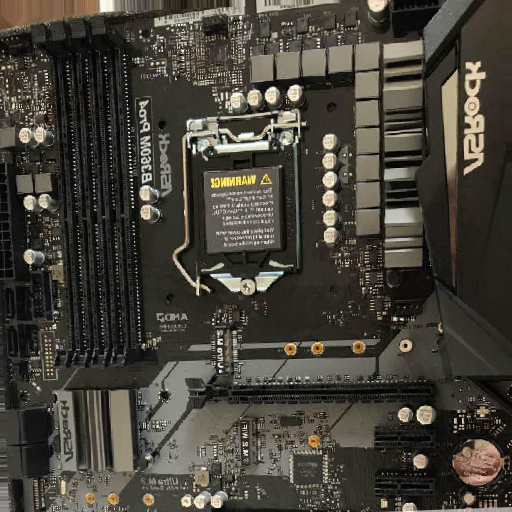CPU: (187, 108, 300, 296)
GPU: (184, 377, 436, 410)
MOTHERBOARD: (1, 1, 511, 512)
RAM: (29, 17, 142, 371)
SSD: (212, 321, 239, 375), (234, 418, 259, 466)
